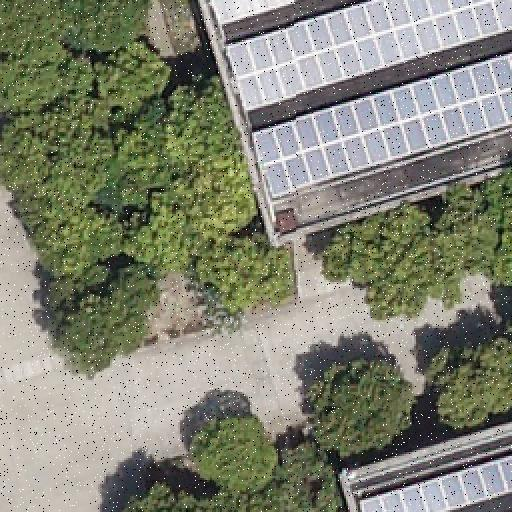solar-panel: (249, 51, 511, 197), (224, 1, 512, 111), (358, 452, 512, 512), (213, 0, 307, 28)
